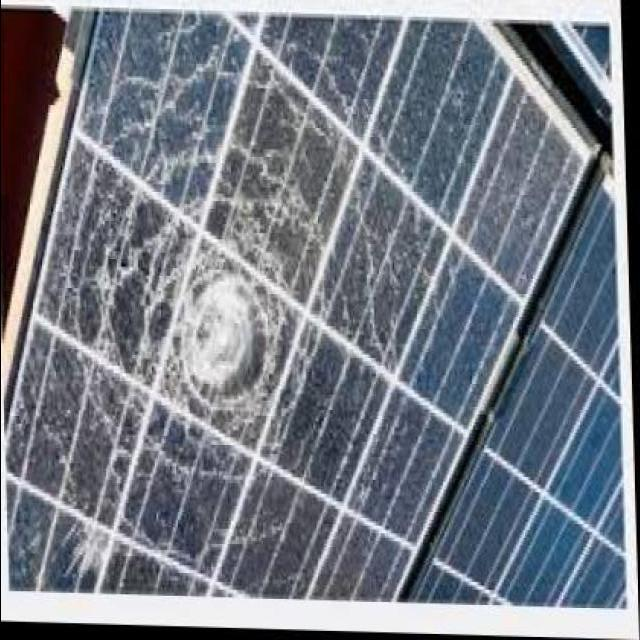cracked: (9, 9, 576, 590)
